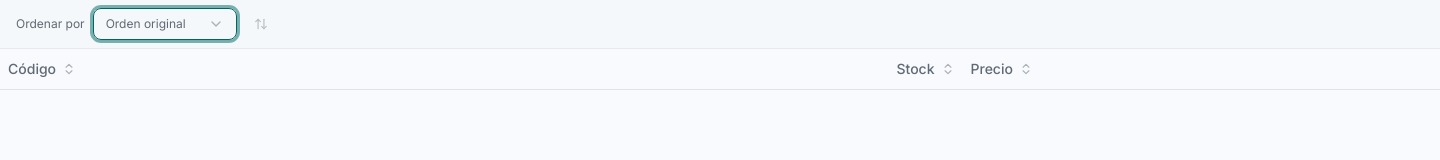
Test case: el selector de orden › el botón de al lado invierte el sentido de esa columna
Press ArrowDown in the dropdown labelled "Orden original", box top-left (93, 8), bottom-right (237, 40)
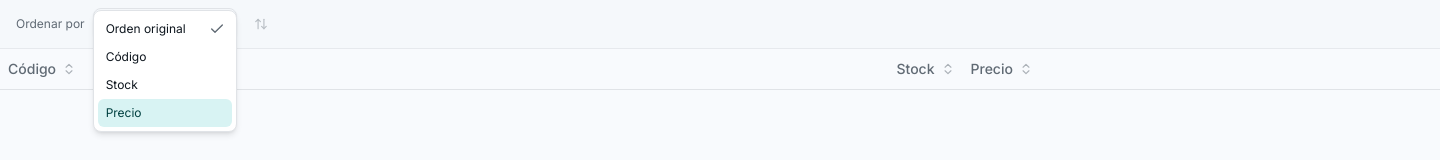
Press Enter in the option "Precio", box top-left (98, 99), bottom-right (232, 127)
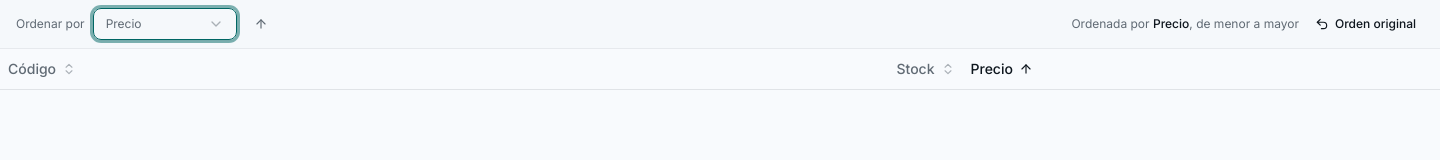
Click the button named "Ordenar de mayor a menor": point(261, 24) top-left (245, 8), bottom-right (277, 40)
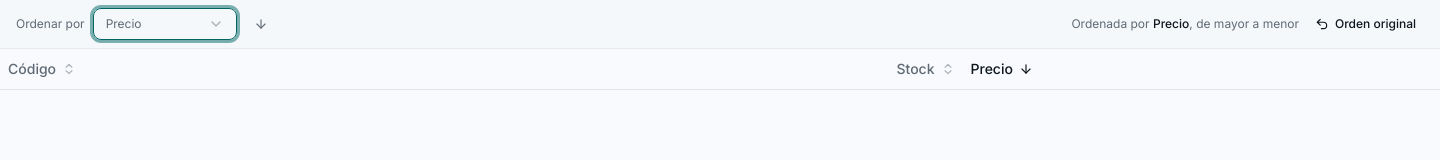
expect the dropdown labelled "Precio" is shown: met, box top-left (93, 8), bottom-right (237, 40)
expect the text "de mayor a menor" is shown: met, box top-left (1189, 16), bottom-right (1299, 31)
Click the button named "Ordenar de menor a mayor": point(261, 24) top-left (245, 8), bottom-right (277, 40)
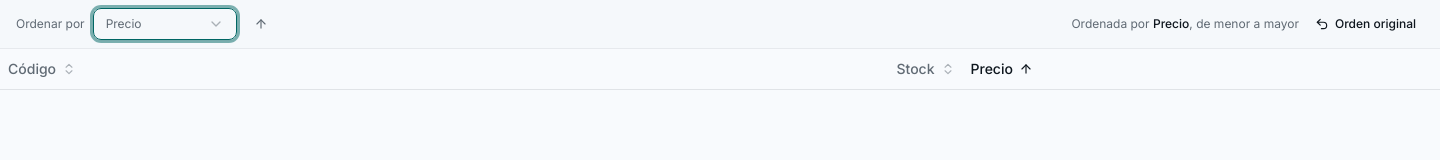
expect the text "de menor a mayor" is shown: met, box top-left (1189, 16), bottom-right (1299, 31)
